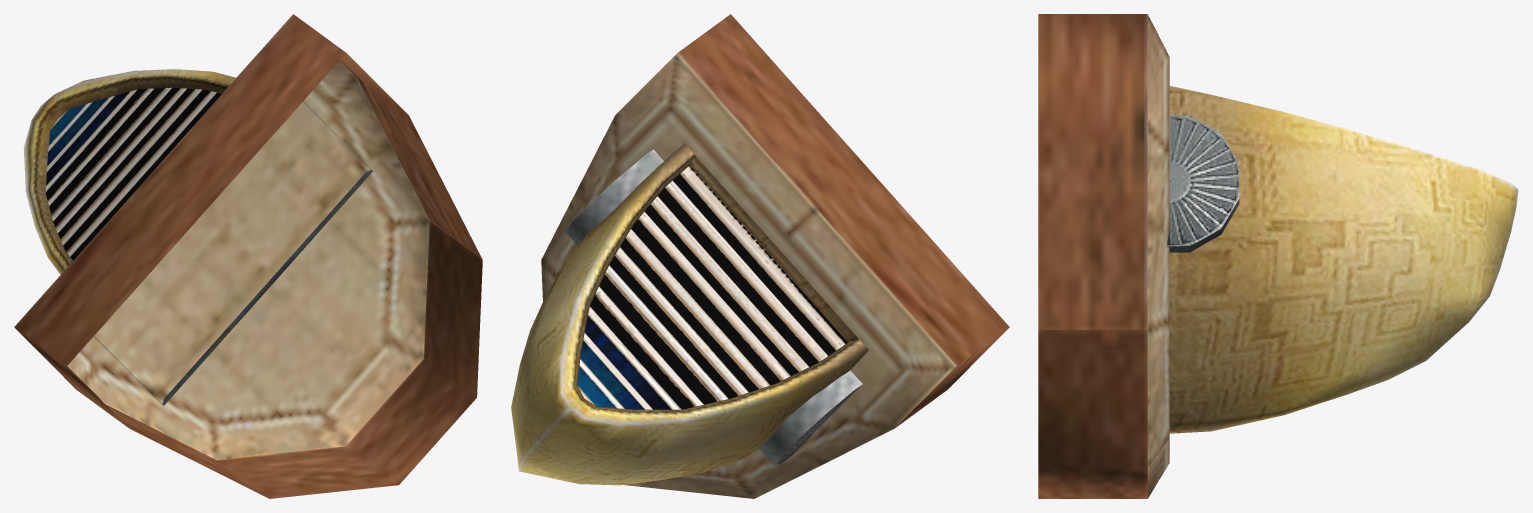
Rendered from windtrap.fbx.
3 views of the same model, side by side, from view 1: azimuth 30°, elevation 25°; view 2: azimuth 150°, elevation 25°; view 3: azimuth 270°, elevation 25° (orthographic). The views are drawn at different scales.
Visible parts, largest first — view 1: windtrap; view 2: windtrap; view 3: windtrap.
Part boxes in pixels (x1,y1,x2,y2): windtrap: (14,14,482,498); windtrap: (511,14,1009,498); windtrap: (1038,14,1518,498).
Bounding box in the file's own units: 2760 × 2682 × 2825.
2 materials, 2 textured.
